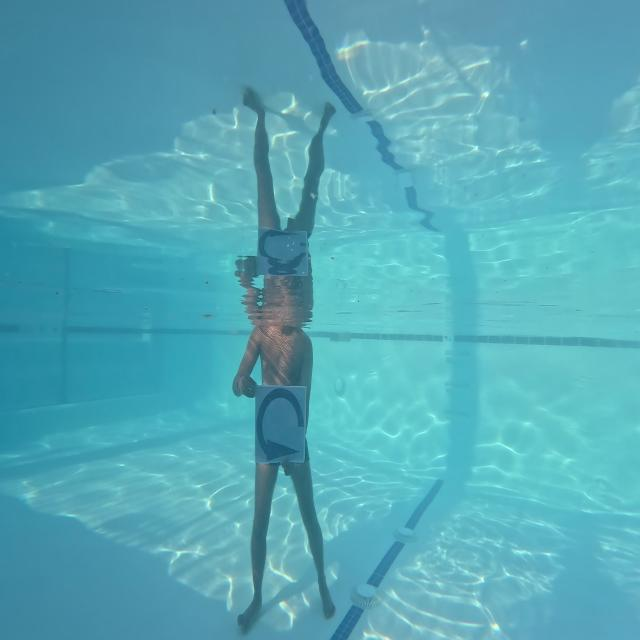blue_side: (253, 380, 314, 465)
